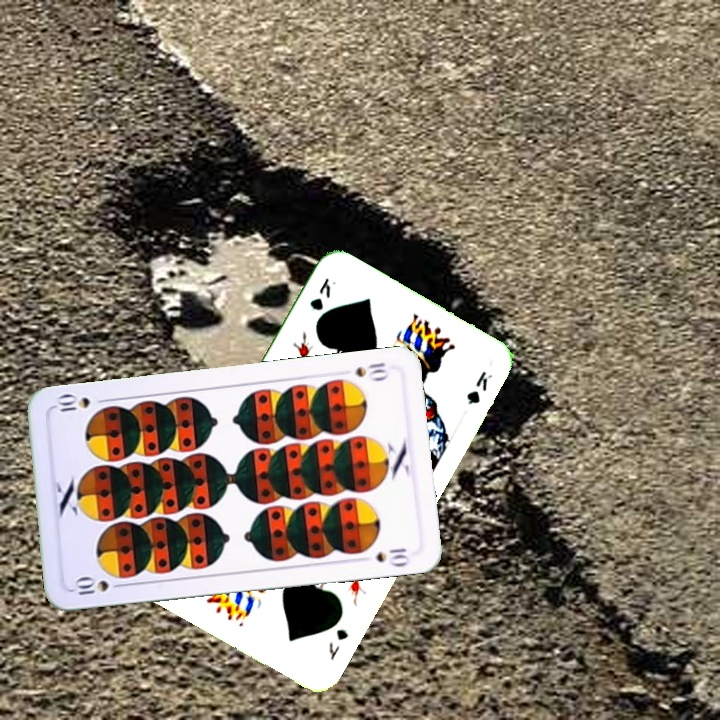GK: (305, 274, 339, 314), (324, 624, 351, 663)
S10: (70, 575, 128, 598), (351, 358, 391, 383)
